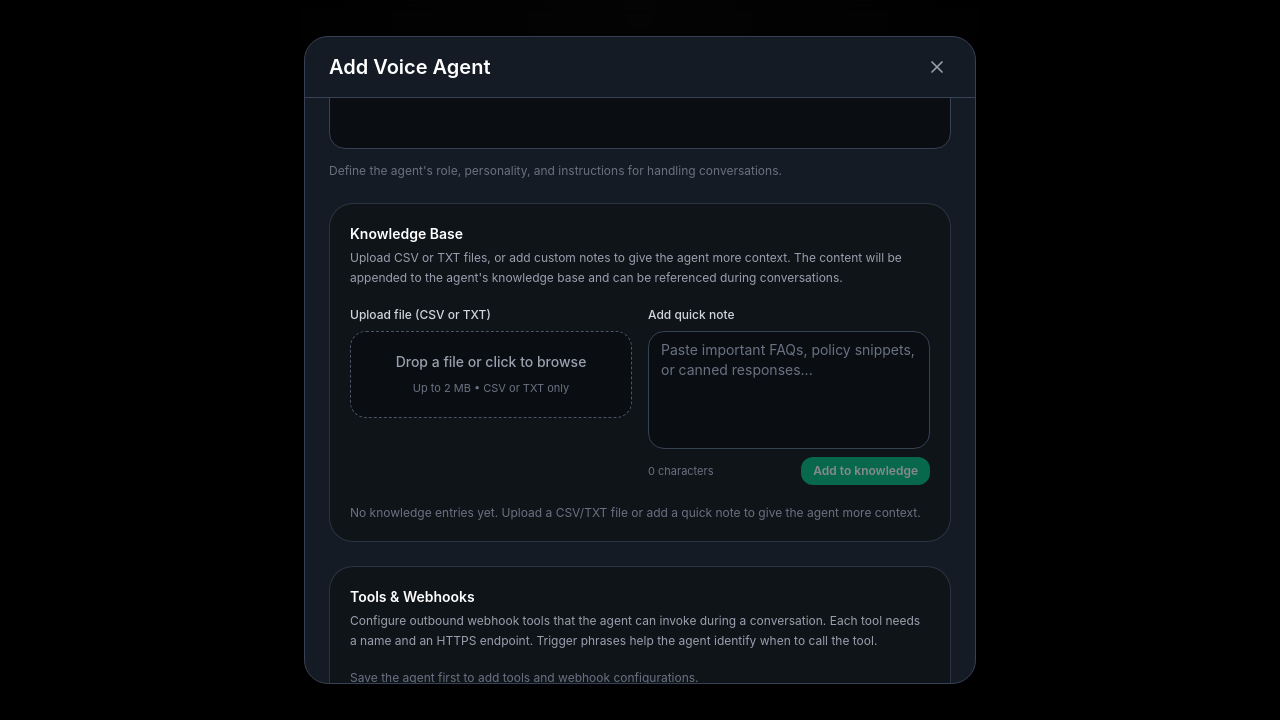
Test: AgentModal › Knowledge Base Features › should remove knowledge item when remove button is clicked
(page scrolled)
# Add a manual note
Replace the text in the text box with placeholder "Paste important FAQs" with "Test knowledge item" at (789, 390), box top-left (648, 331), bottom-right (930, 449)
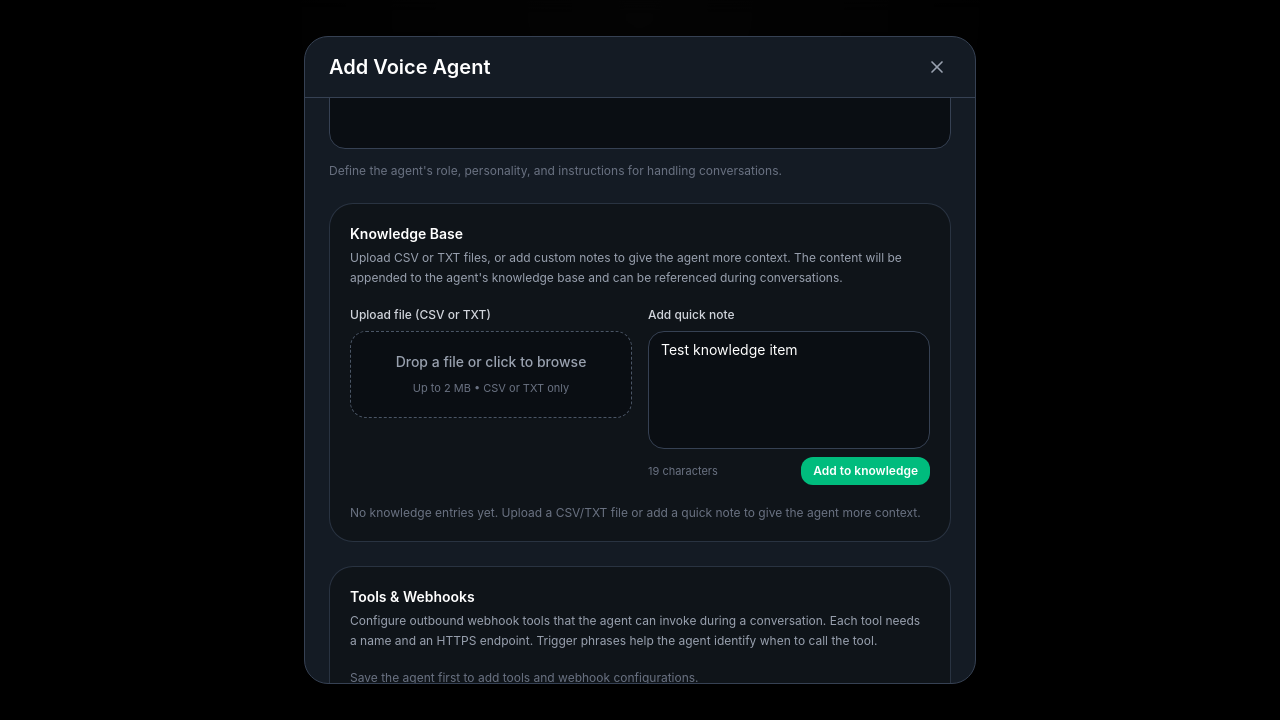
Click the button "Add to knowledge".
click(866, 471)  # box top-left (801, 457), bottom-right (930, 485)
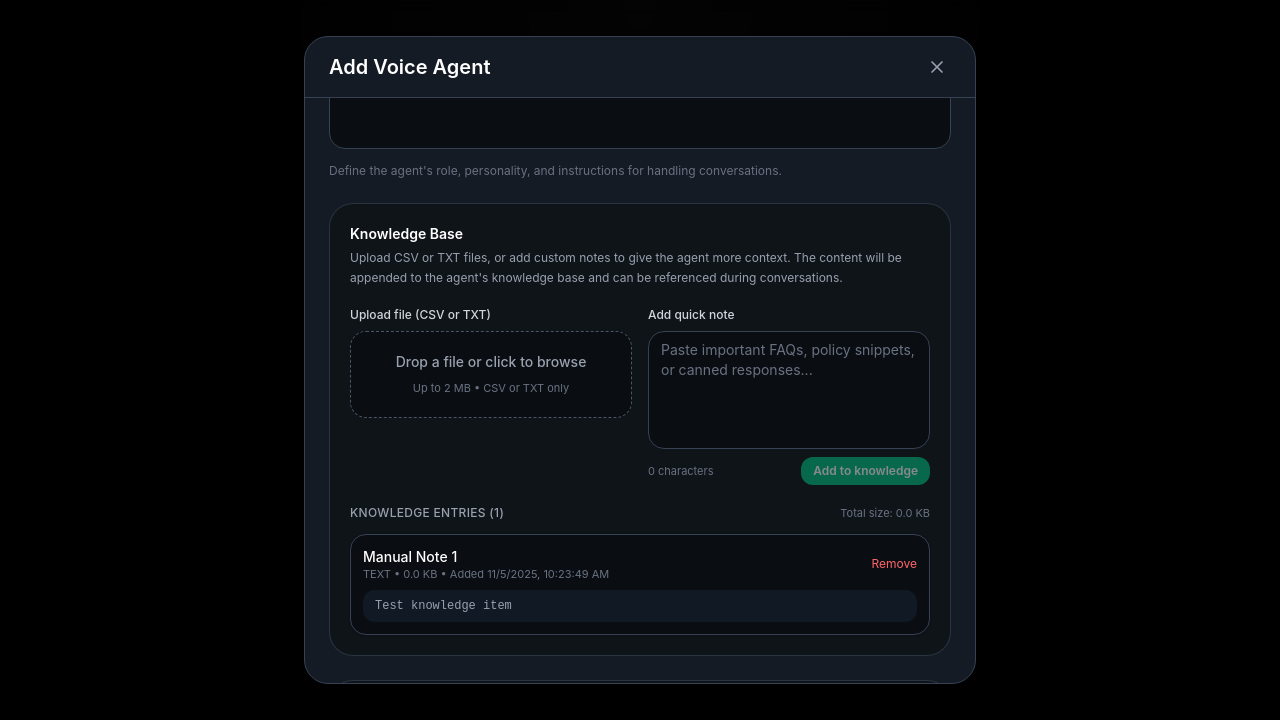
Expected: the text "Manual Note 1" is shown, top-left (363, 548), bottom-right (457, 564)
# Click remove
Click the button "Remove".
click(894, 564)  # box top-left (872, 556), bottom-right (917, 572)
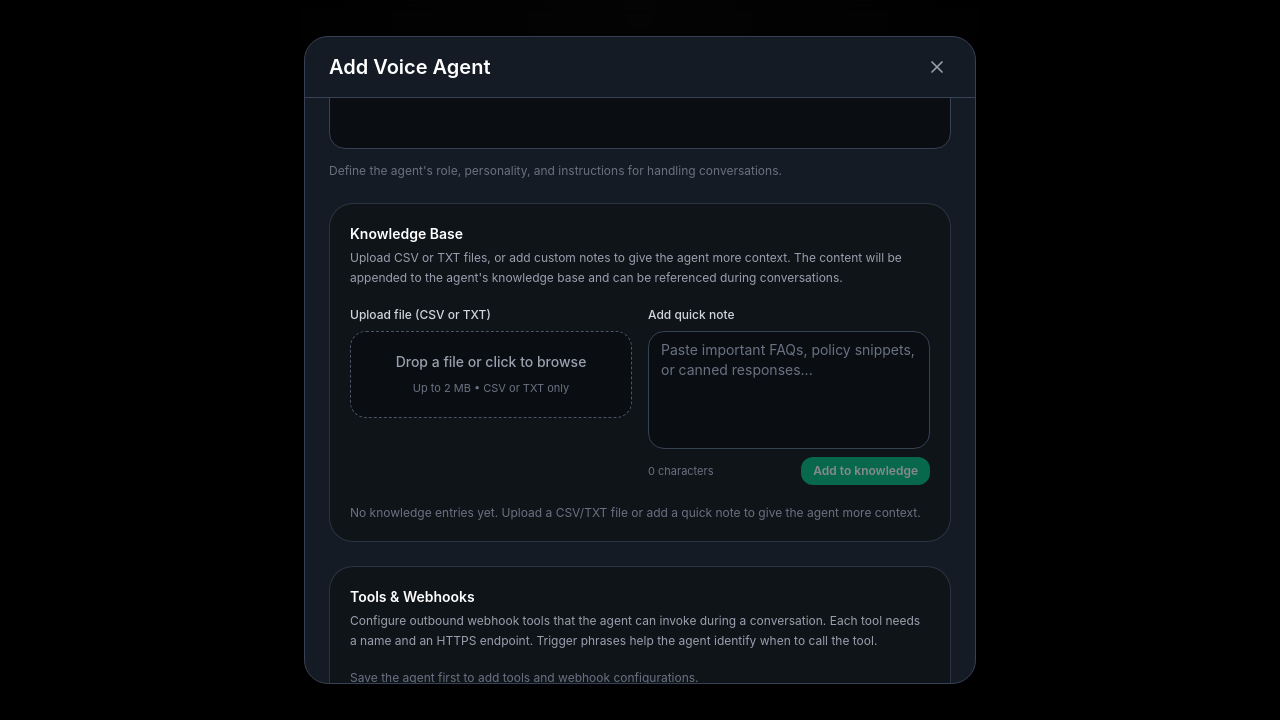
Expected: the text "Manual Note 1" is gone
